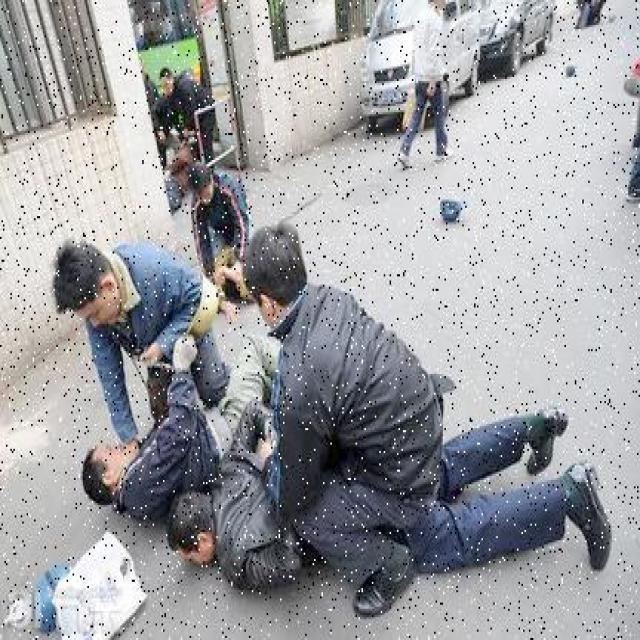fall: (175, 401, 603, 588)
